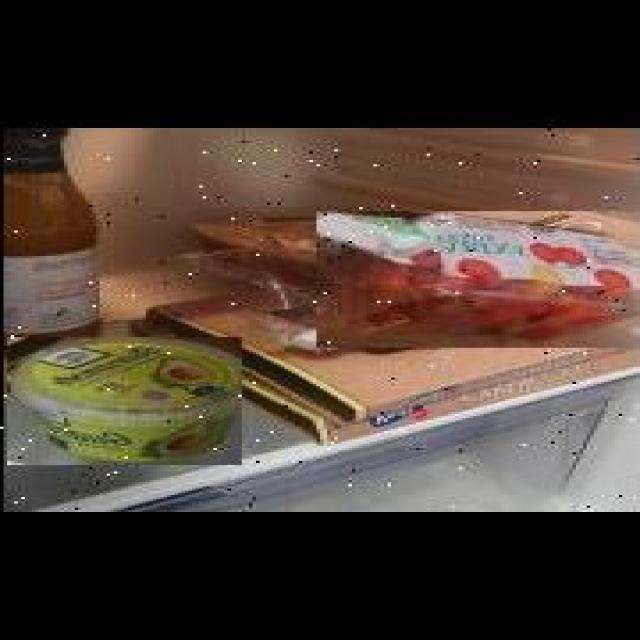guacamole: (2, 337, 236, 465)
tomato: (313, 212, 640, 349)
